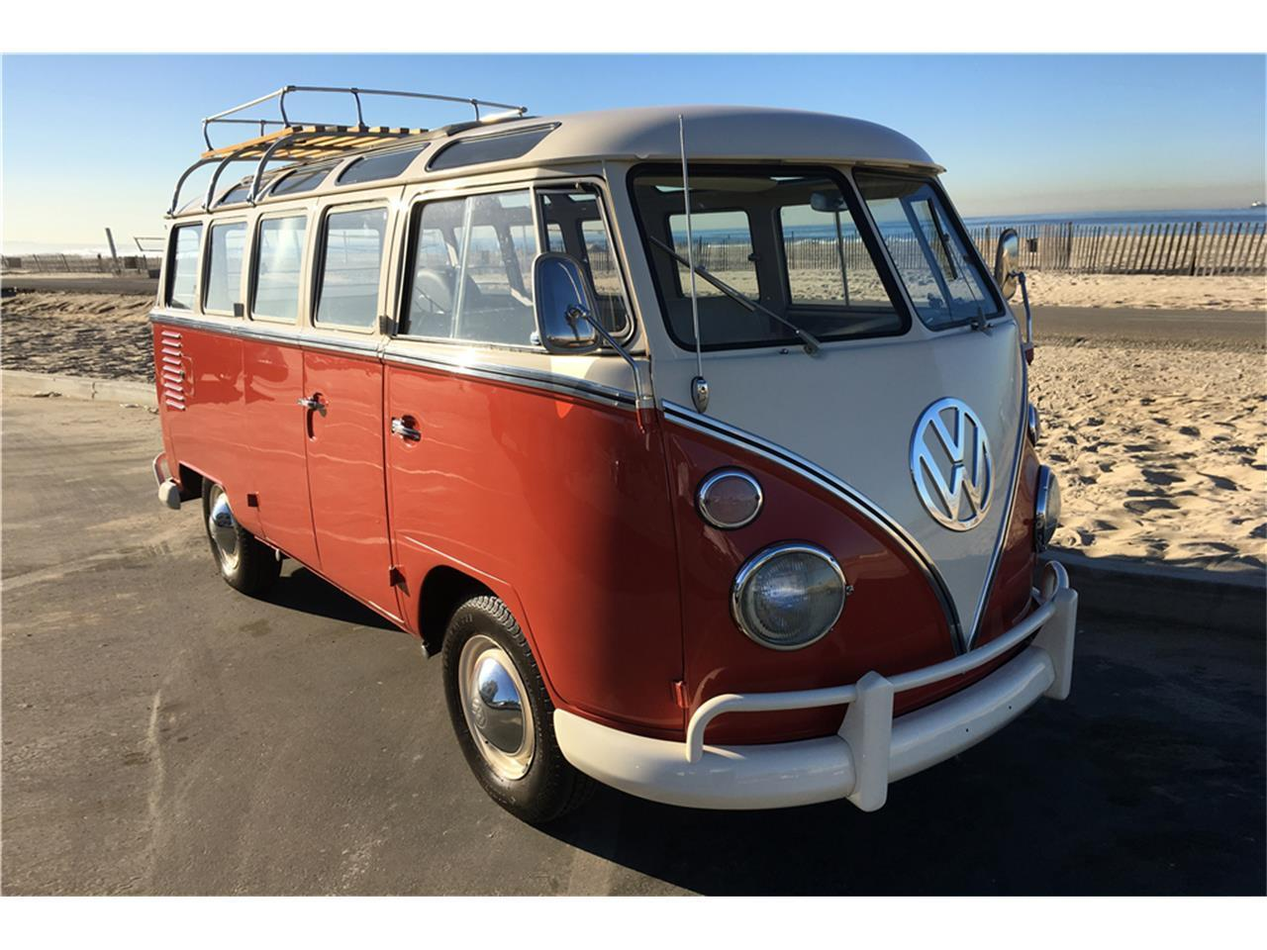Bus: (147, 92, 1079, 833)
